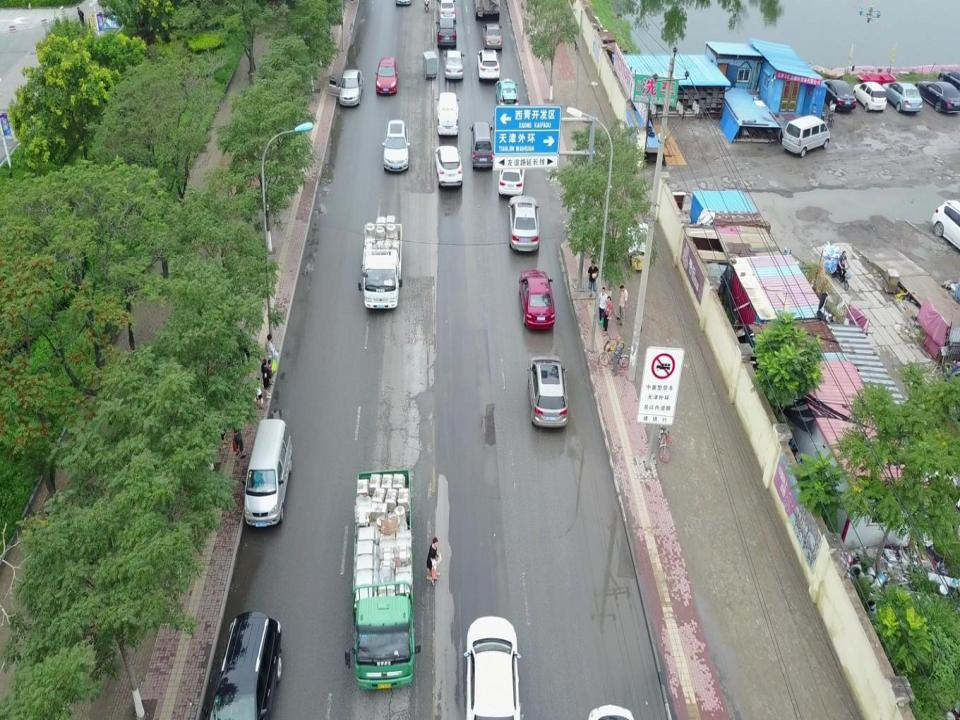car: (206, 611, 282, 720), (462, 615, 521, 720), (528, 354, 568, 428), (519, 269, 555, 329), (508, 195, 540, 251), (916, 78, 960, 114), (932, 200, 960, 252), (382, 120, 410, 172), (818, 77, 856, 112), (880, 81, 922, 112), (329, 68, 363, 106), (498, 152, 526, 195), (435, 145, 462, 186), (853, 81, 886, 111), (495, 77, 519, 111), (375, 57, 397, 93), (476, 49, 500, 82), (937, 69, 960, 96), (444, 51, 464, 79), (482, 23, 503, 49), (436, 19, 456, 45), (437, 0, 458, 22)
truck: (346, 469, 420, 689), (358, 215, 402, 307), (473, 0, 499, 20)
van: (243, 417, 291, 526), (782, 114, 830, 157), (470, 121, 494, 170), (436, 92, 460, 136)
